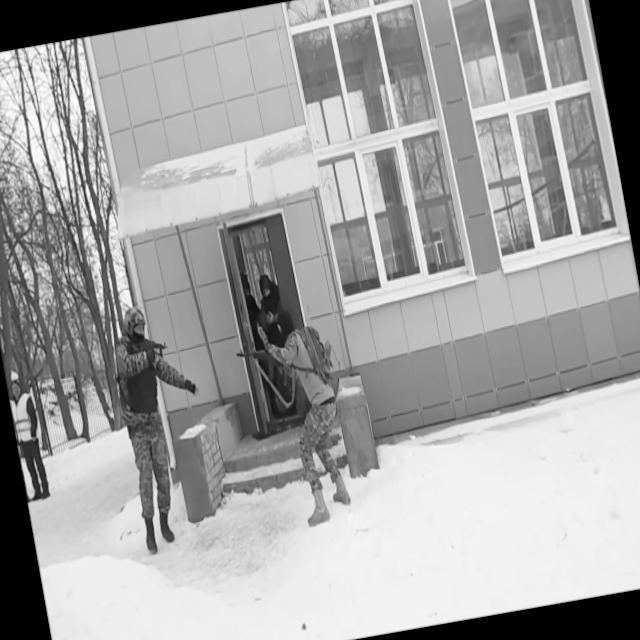gun: (234, 339, 286, 386), (126, 331, 172, 370)
person: (250, 270, 304, 418), (5, 373, 52, 502)
person with a gun: (104, 297, 226, 553), (229, 301, 359, 536)
